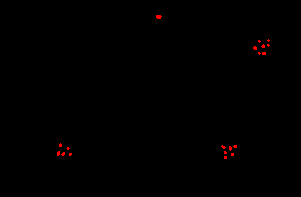Target: (156, 15, 162, 19), (221, 145, 226, 149), (261, 44, 265, 48), (253, 46, 257, 50), (61, 152, 65, 156), (229, 146, 232, 151), (57, 151, 60, 156), (262, 52, 266, 55), (59, 143, 62, 147), (233, 145, 237, 148), (267, 39, 270, 42), (258, 40, 261, 43), (267, 44, 270, 47), (258, 52, 261, 55), (67, 147, 70, 150), (224, 151, 227, 154), (69, 153, 72, 156), (231, 153, 234, 156), (224, 156, 227, 159)
